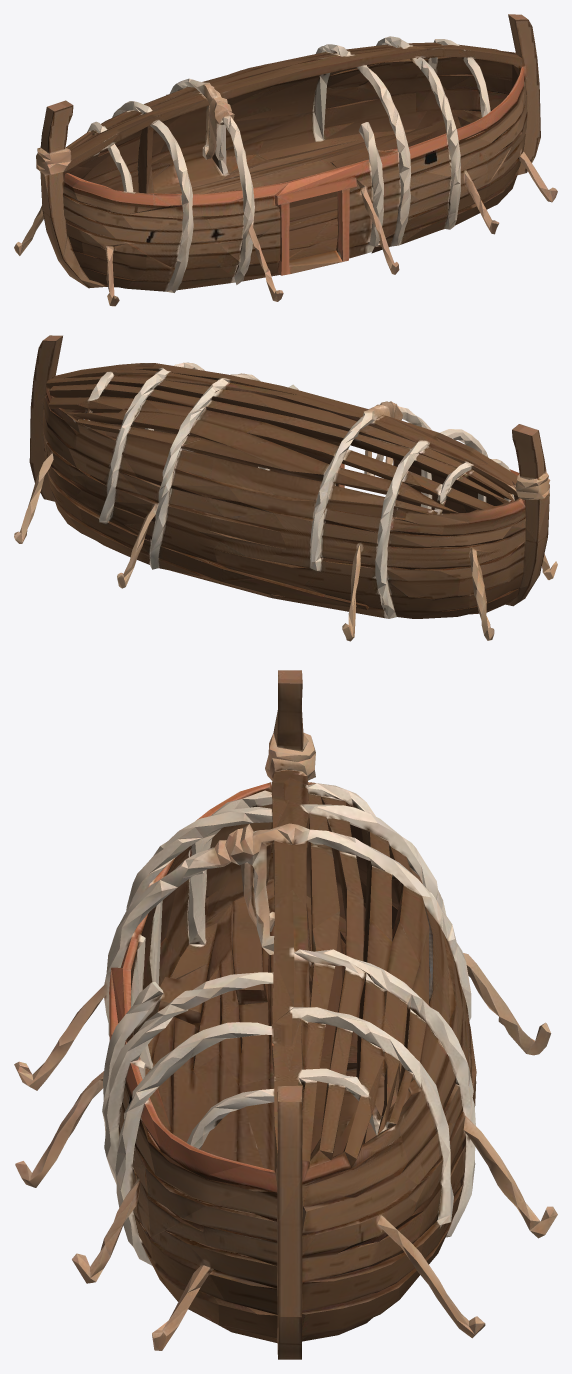
Rendered from longhouse_optimized.glb.
3 renders of one model, top to bottom at view 1: azimuth 30°, elevation 25°; view 2: azimuth 150°, elevation 25°; view 3: azimuth 270°, elevation 25°, orthographic. The views are drawn at different scales.
Parts seen in each view (by area): view 1: output_unwrapped; view 2: output_unwrapped; view 3: output_unwrapped.
Part boxes in pixels (left/top/right/bottom): output_unwrapped: left=14, top=14, right=557, bottom=306; output_unwrapped: left=14, top=335, right=557, bottom=641; output_unwrapped: left=14, top=670, right=557, bottom=1359.
Bounding box in the file's own units: 1.9 × 0.6511 × 1.06.
1 material, 1 textured.
